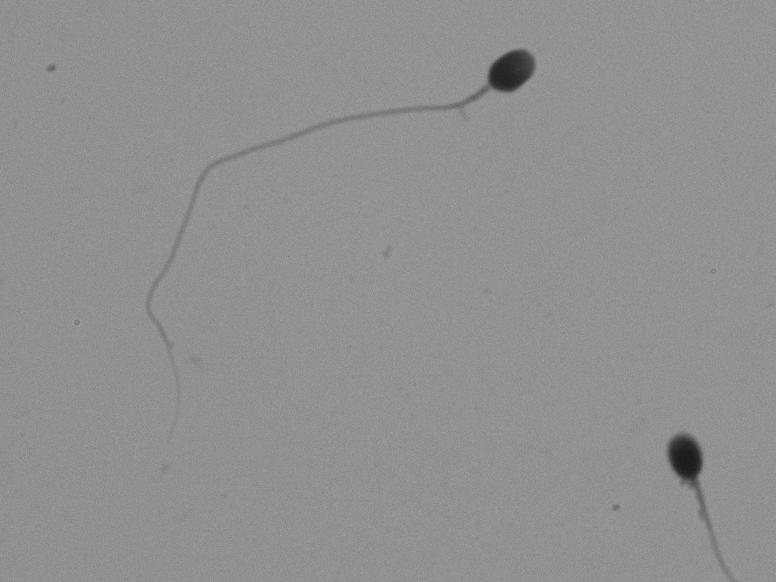Normal: (94, 16, 565, 427)
